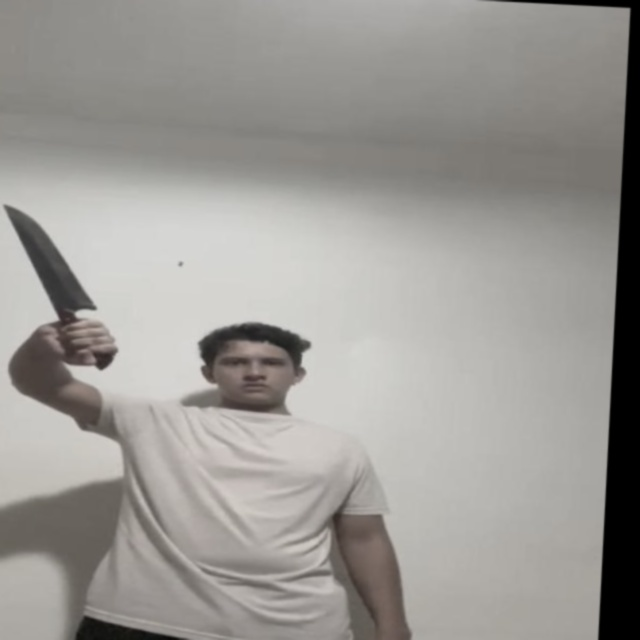Sharp-Object: (0, 203, 109, 313)
